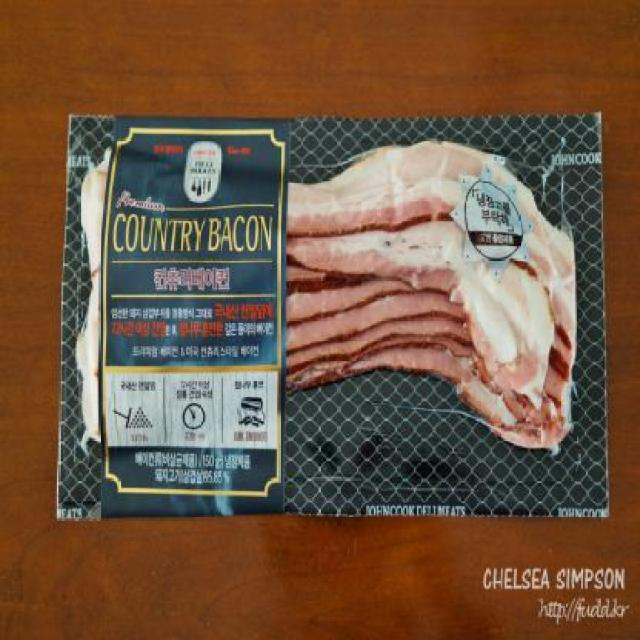Bacon: (58, 102, 620, 524)
